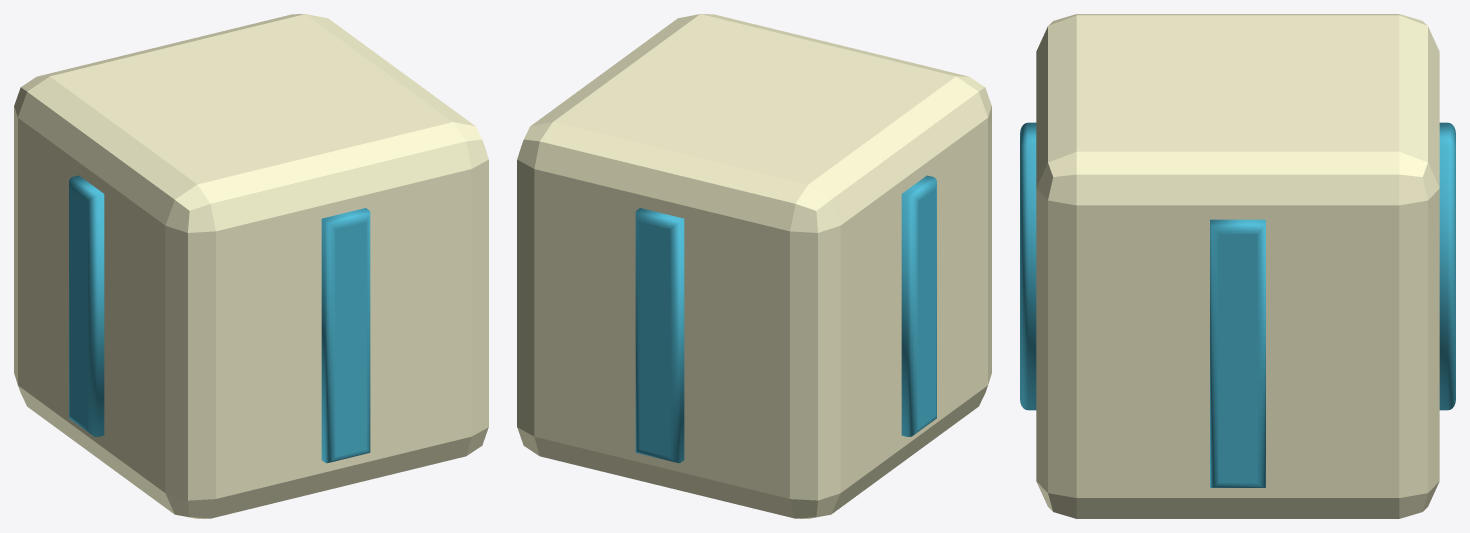
3 views of the same model, side by side, from view 1: azimuth 30°, elevation 25°; view 2: azimuth 150°, elevation 25°; view 3: azimuth 270°, elevation 25° (orthographic). The views are drawn at different scales.
Visible parts, largest first — view 1: I; view 2: I; view 3: I.
Boxes of the visible parts, x1,y1,x2,y2 form: I: (14,14,488,518); I: (517,14,991,518); I: (1020,14,1455,518).
Bounding box in the file's own units: 216 × 200 × 216.
